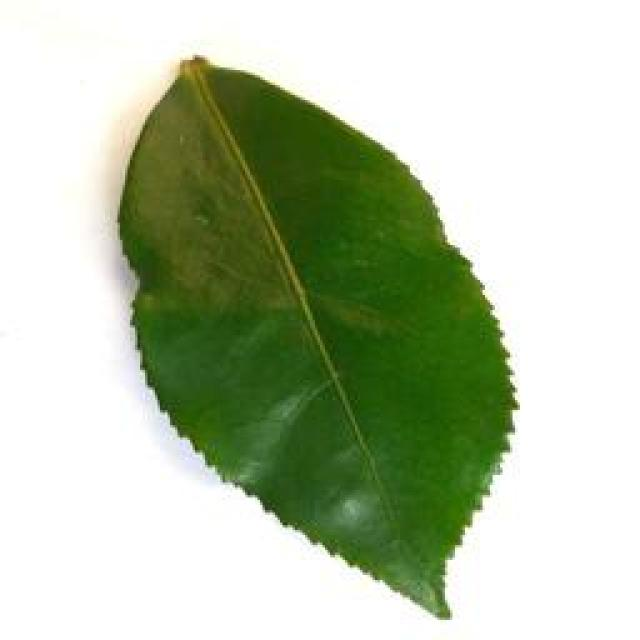Healthy: (108, 57, 526, 630)
